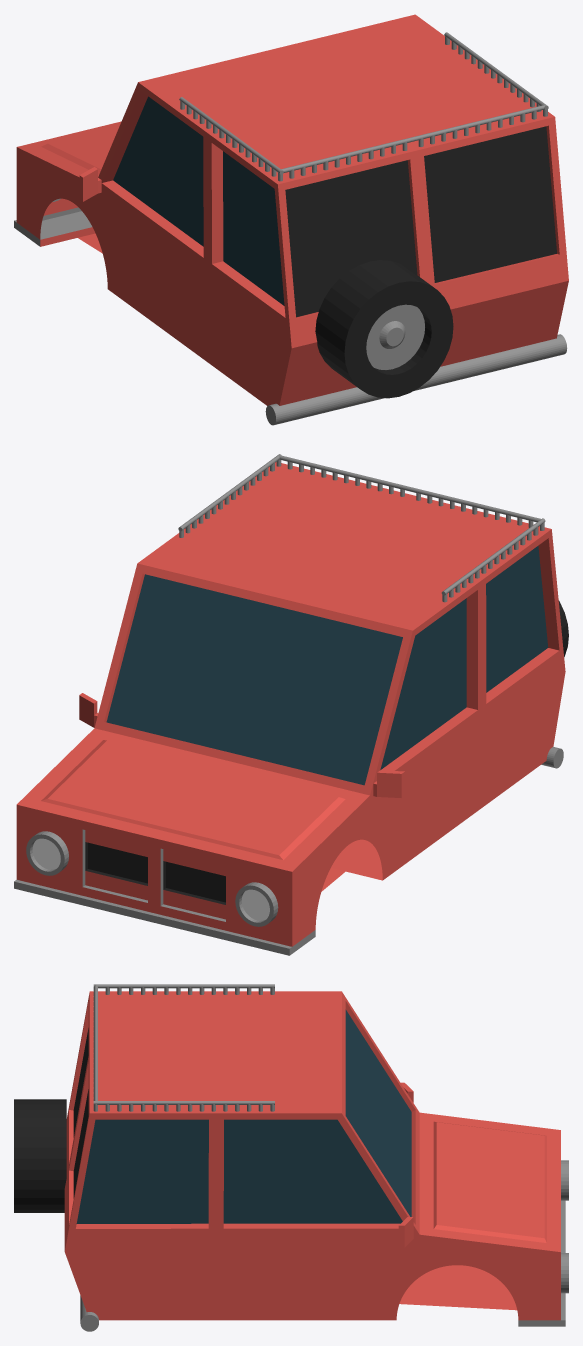
File: Red Car.fbx
3 renders of one model, top to bottom at view 1: azimuth 30°, elevation 25°; view 2: azimuth 150°, elevation 25°; view 3: azimuth 270°, elevation 25°, orthographic. The views are drawn at different scales.
Visible parts, largest first — view 1: Cube, Cylinder.004, Cube.001; view 2: Cube, Cylinder.002; view 3: Cube, Cylinder.004, Cylinder.002.
Boxes of the visible parts, x1,y1,x2,y2 form: Cube: [14, 14, 568, 405]; Cylinder.004: [315, 260, 453, 398]; Cube.001: [265, 334, 567, 425]; Cube: [14, 454, 565, 955]; Cylinder.002: [26, 831, 278, 926]; Cube: [64, 984, 565, 1326]; Cylinder.004: [14, 1099, 66, 1212]; Cylinder.002: [561, 1160, 568, 1293].
Size of the model in its own units: 143 by 236 by 105.
